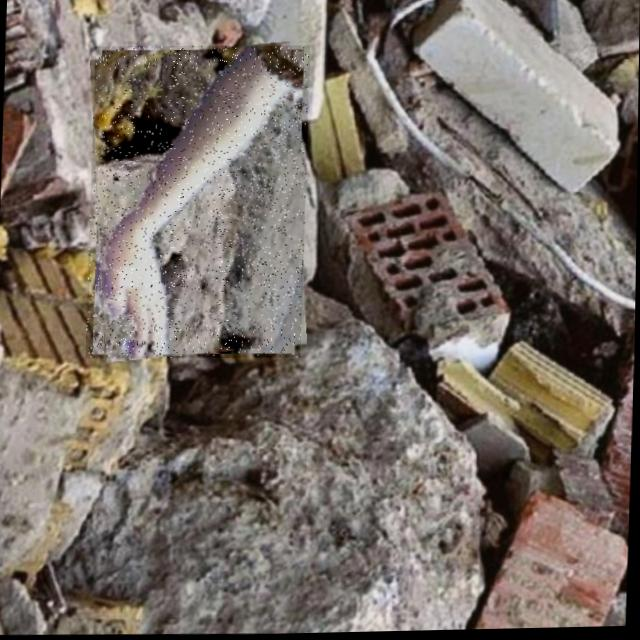Person in Rubble: (85, 42, 309, 362)
